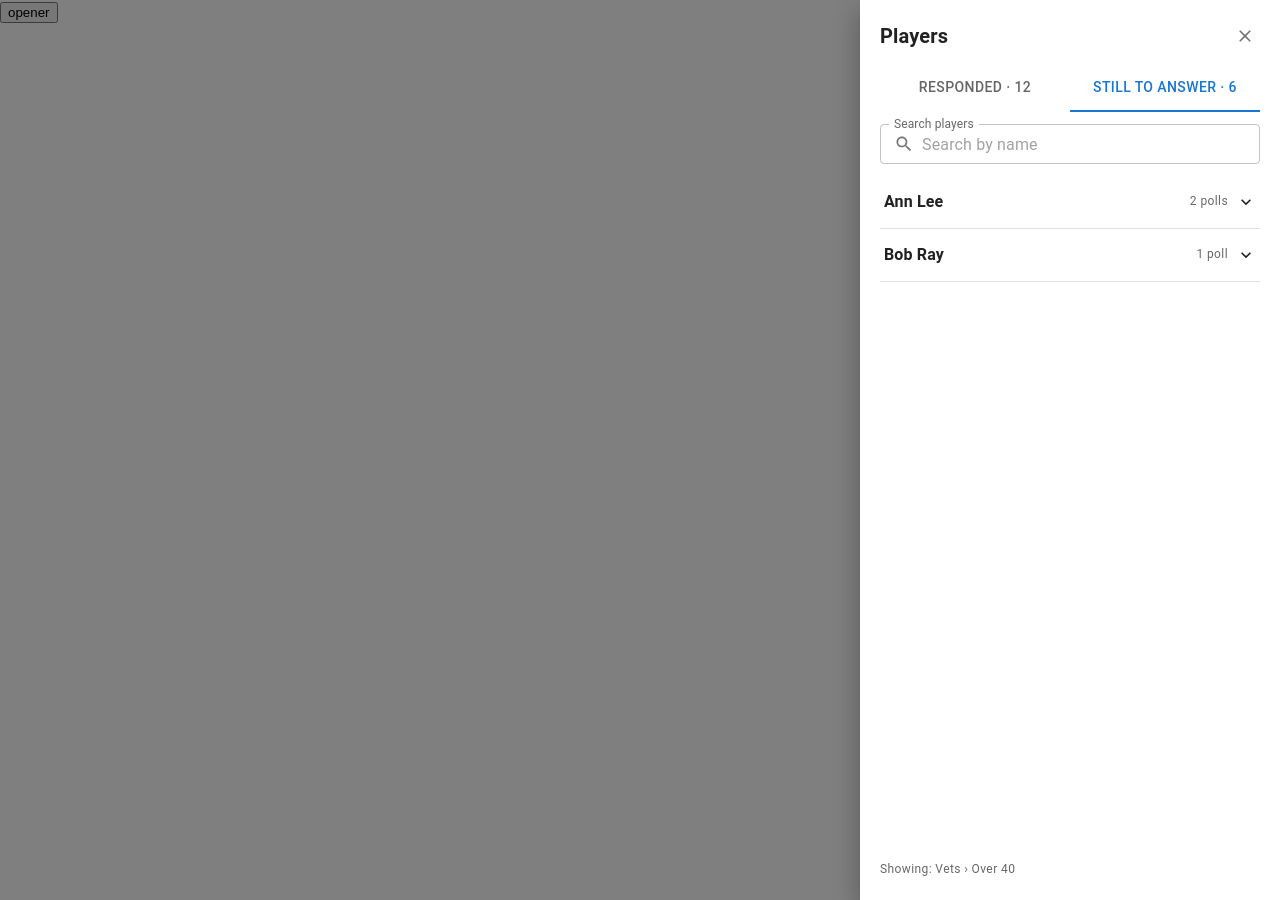
Test: PlayersPanel (084) › lists each player once with a poll count; on desktop the poll links expand on demand and go to both Responses routes
Check: the number of list items with test id "players-panel-row" is 2, box [880,176,1260,229]; [880,229,1260,282]
Check: the text "2 polls" is shown, box [1190,192,1228,212]
What coordinates should you click on to do the following:
click the button with aria-label "Ann Lee, 2 polls"
I would click on:
 (914, 202)
Its box is [880,180,1260,224].
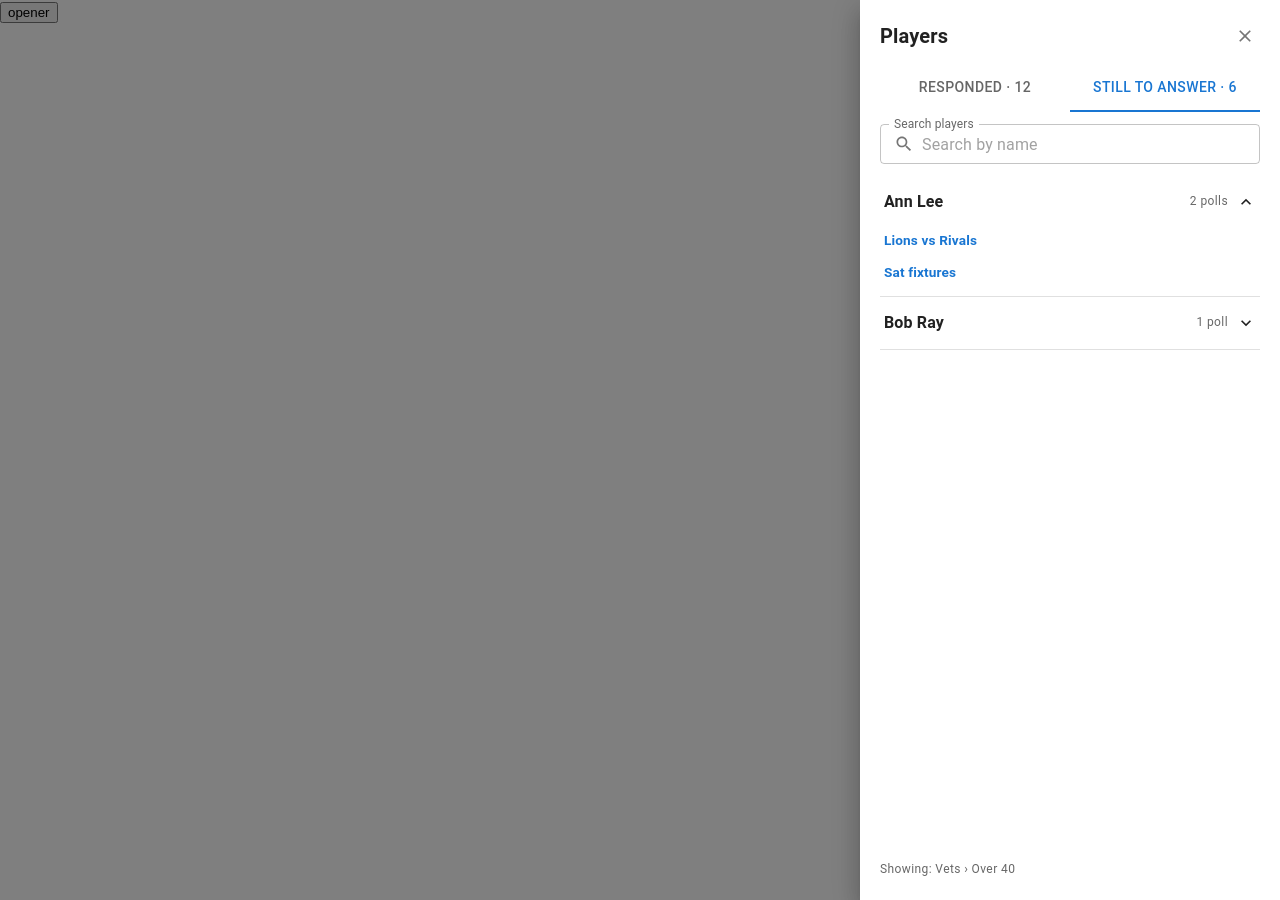
Check: the button with aria-label "Ann Lee, 2 polls" is expanded, box [880,180,1260,224]
